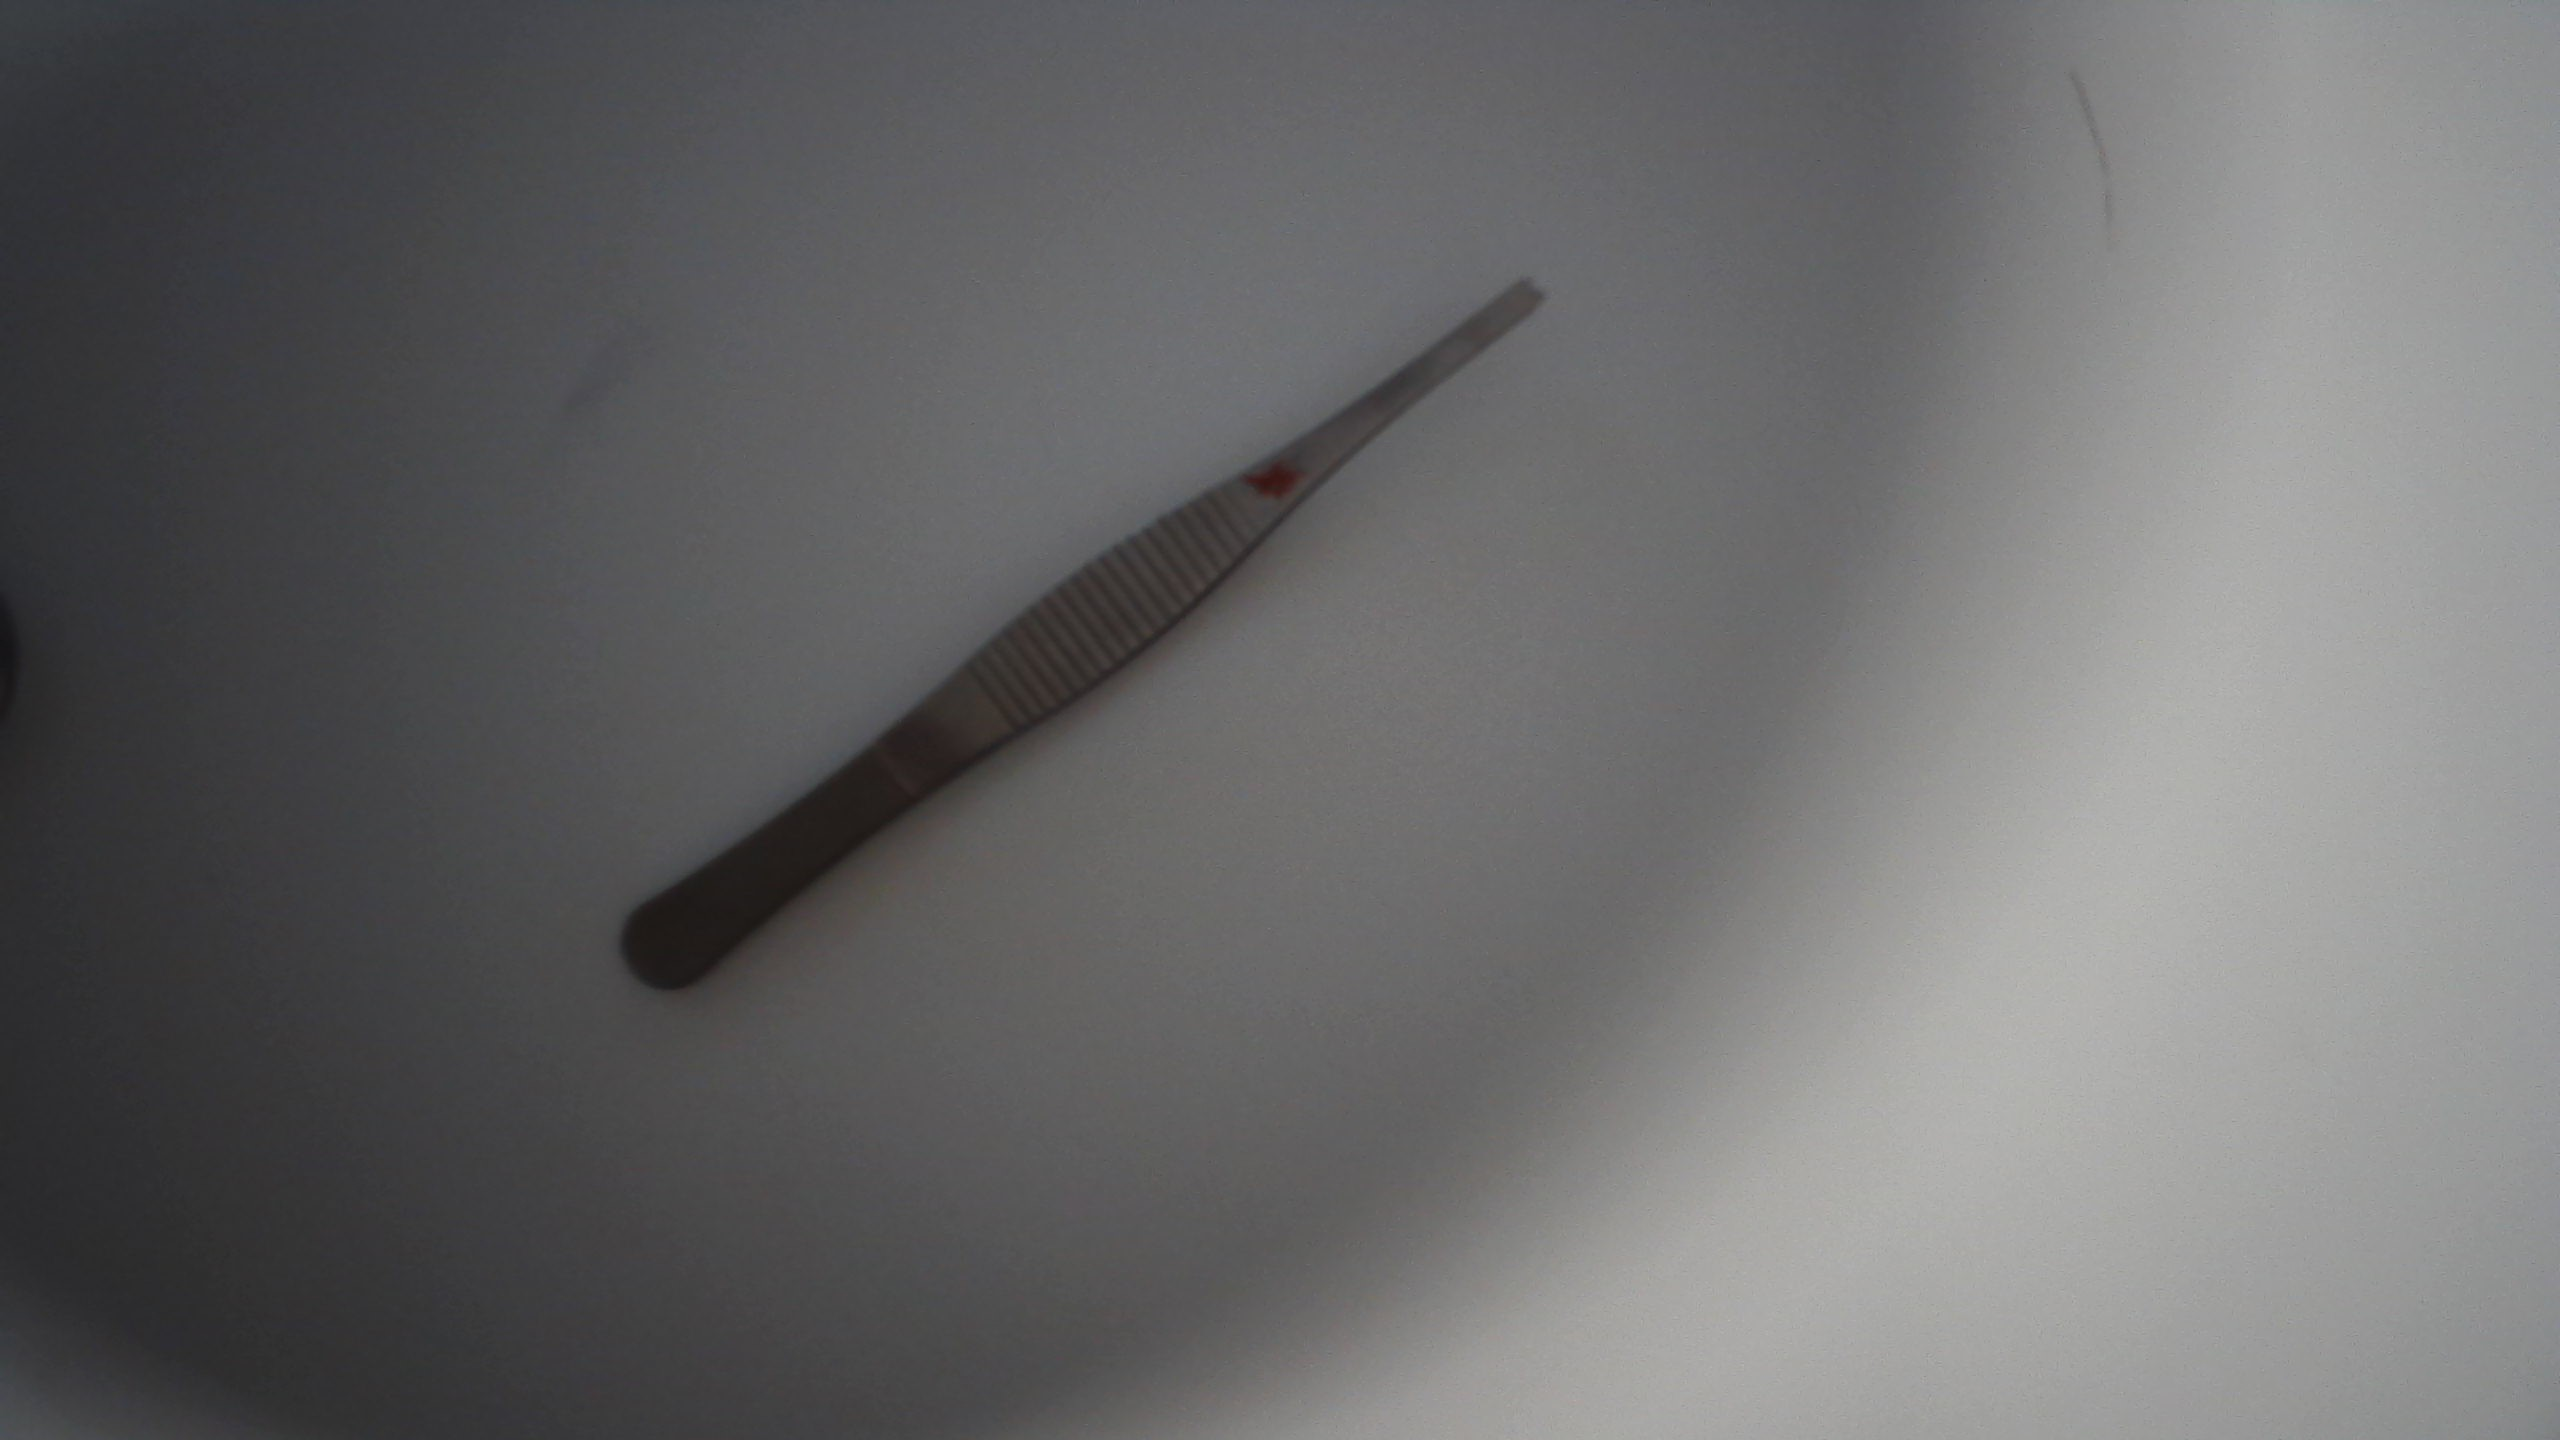Stain: (1238, 454, 1313, 506)
